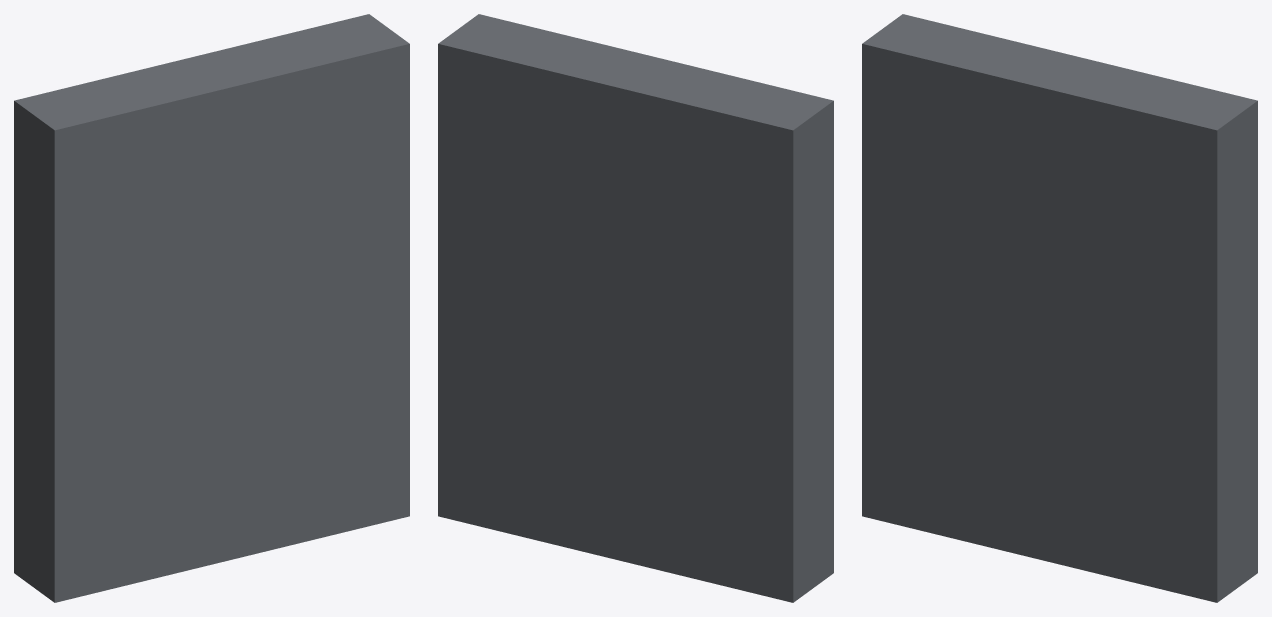
Rendered from DoorPlugKeep.fbx.
The picture shows the model from 3 angles, left to right: view 1: azimuth 30°, elevation 25°; view 2: azimuth 150°, elevation 25°; view 3: azimuth 330°, elevation 25°; orthographic projection.
Parts seen in each view (by area): view 1: DoorPlugKeep; view 2: DoorPlugKeep; view 3: DoorPlugKeep.
Boxes of the visible parts, x1=… form: DoorPlugKeep: x1=14, y1=14, x2=409, y2=602; DoorPlugKeep: x1=438, y1=14, x2=833, y2=602; DoorPlugKeep: x1=862, y1=14, x2=1257, y2=602.
Bounding box in the file's own units: 262 × 333 × 52.
1 material, 1 textured.
